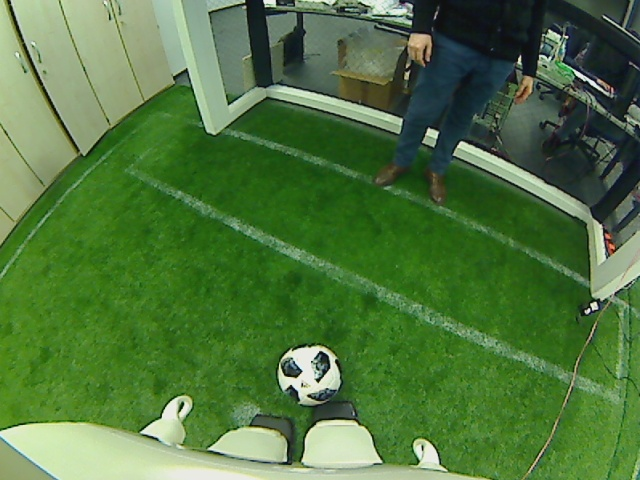ball: (273, 340, 342, 407)
